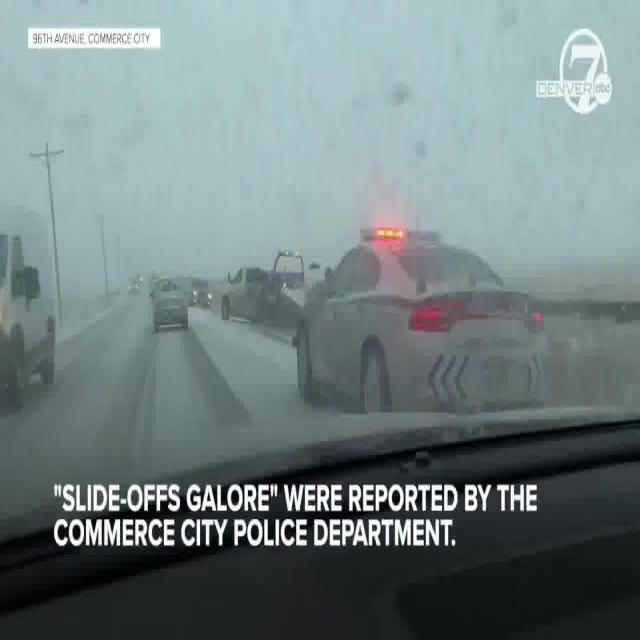Car: (146, 269, 187, 333), (187, 272, 215, 309)
Truck: (0, 203, 59, 408)
